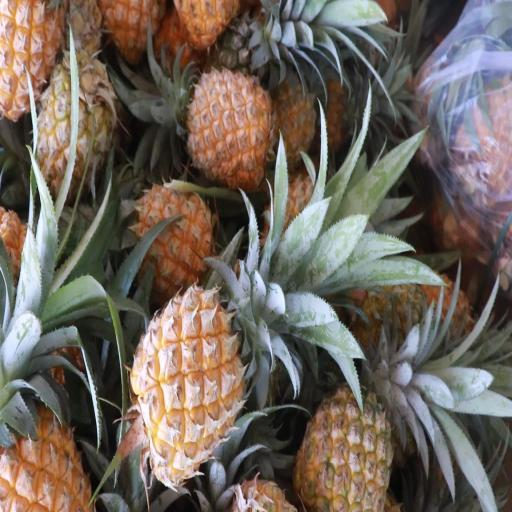------------------------------: (296, 368, 390, 510), (32, 58, 113, 205)
Pineapple - v8 v1: (126, 294, 240, 473), (0, 377, 89, 512), (185, 72, 270, 184), (133, 181, 213, 290)
